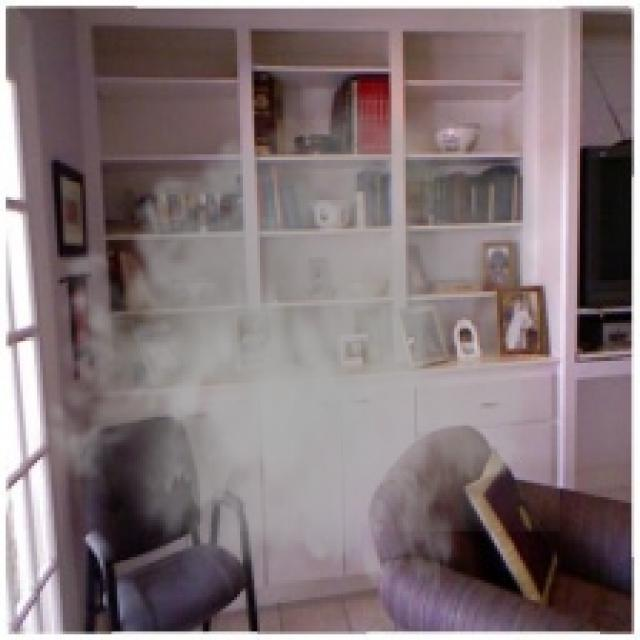Smoke: (28, 74, 560, 629)
